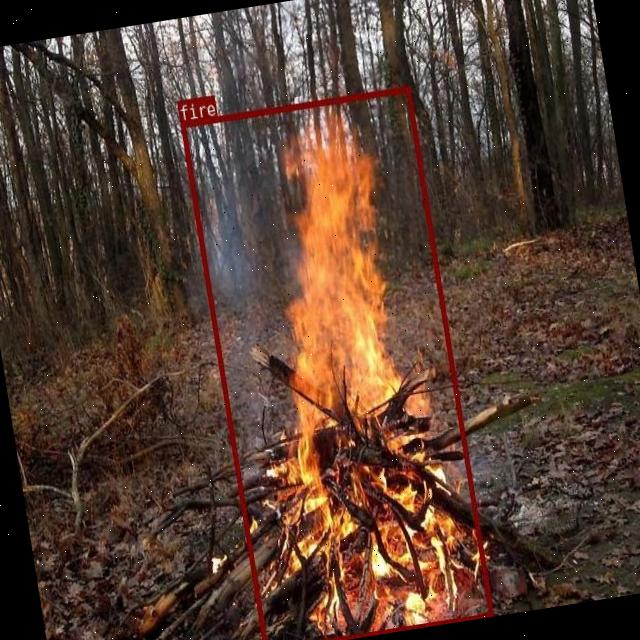fire: (179, 85, 492, 640)
